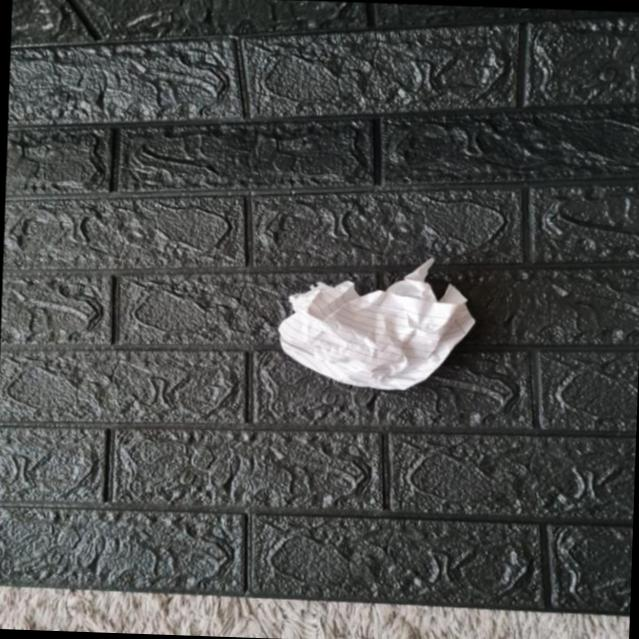cardboard paper: (276, 255, 472, 387)
